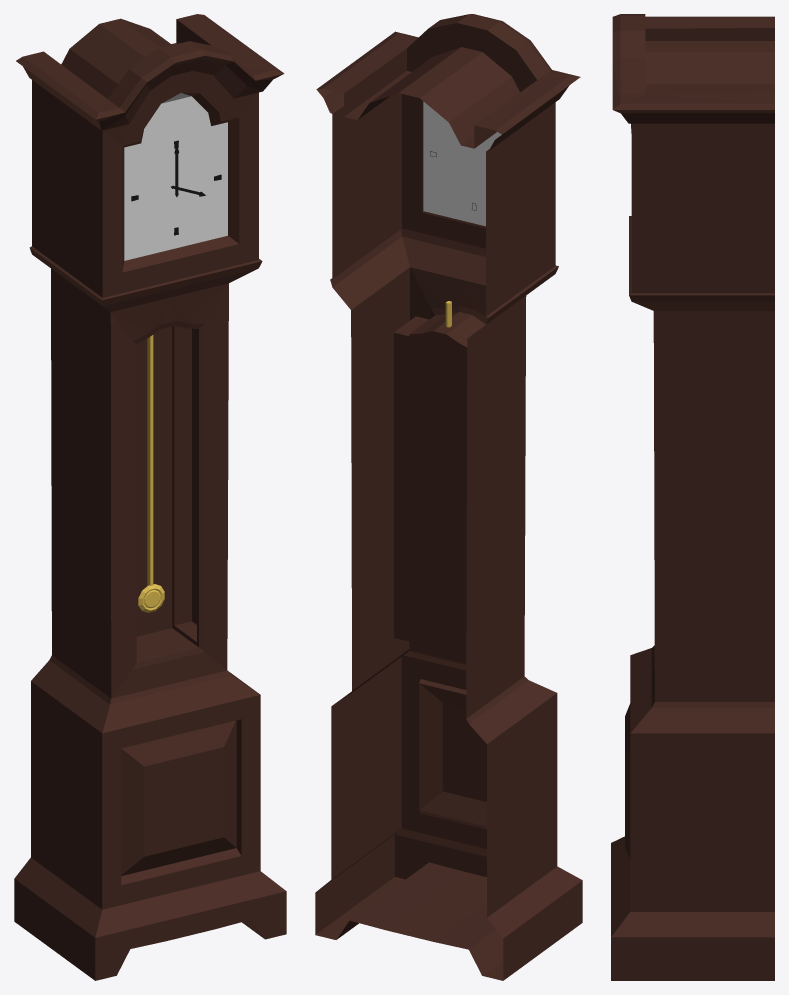
File: Grandfather Clock.fbx
3 renders of one model, left to right at view 1: azimuth 30°, elevation 25°; view 2: azimuth 150°, elevation 25°; view 3: azimuth 270°, elevation 25°, orthographic. The views are drawn at different scales.
Parts seen in each view (by area): view 1: Grandfather Clock; view 2: Grandfather Clock; view 3: Grandfather Clock.
Boxes of the visible parts, <box> form: Grandfather Clock: <box>14,14,286,980</box>; Grandfather Clock: <box>315,14,582,980</box>; Grandfather Clock: <box>611,14,774,980</box>.
Bounding box in the file's own units: 60.63 × 273 × 44.48.
